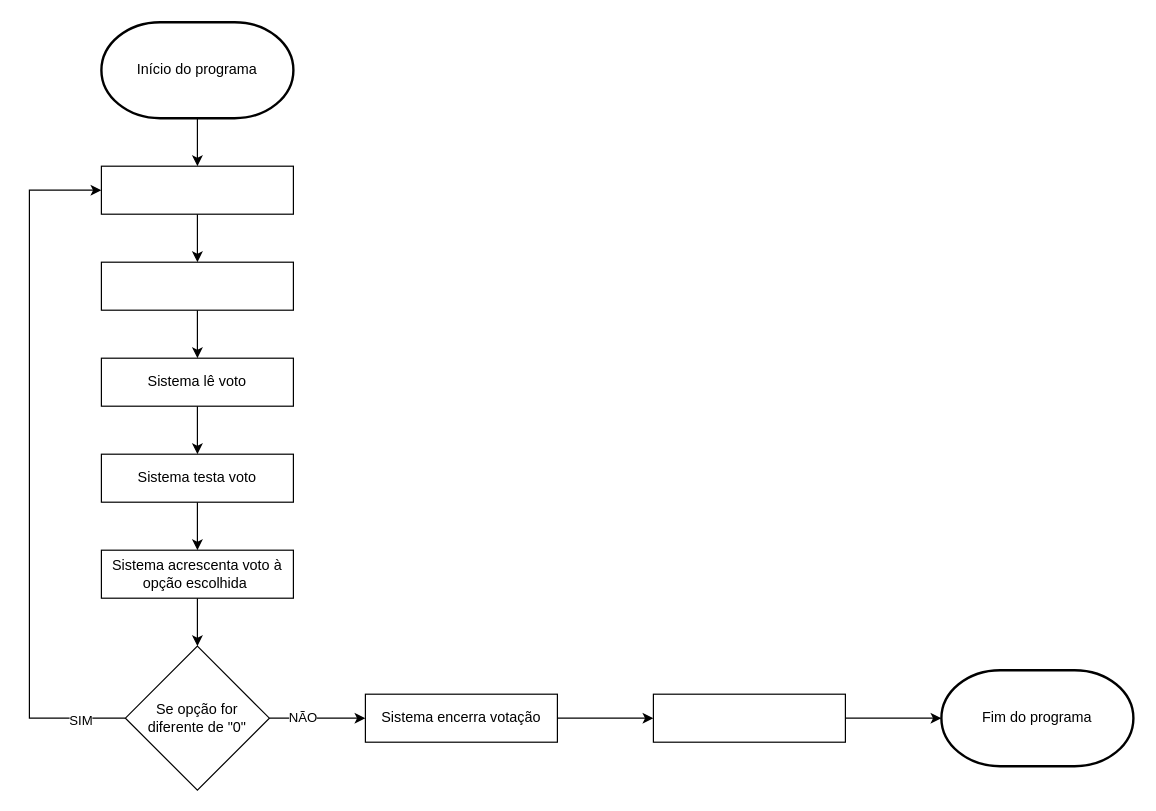
The diagram is 1156 pixels wide and 811 high, and some of its shapes have lost their labels. Each missing label, with the box of its shape:
Exibe opções de voto: (100, 165, 293, 214)
Sistema exibe percentual de votos e vencedor: (652, 693, 845, 742)
Sistema recebe voto: (100, 261, 293, 310)
